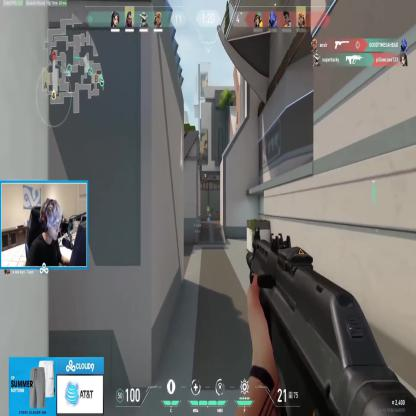enemy: (206, 206, 210, 221)
enemy_head: (207, 206, 209, 209)
